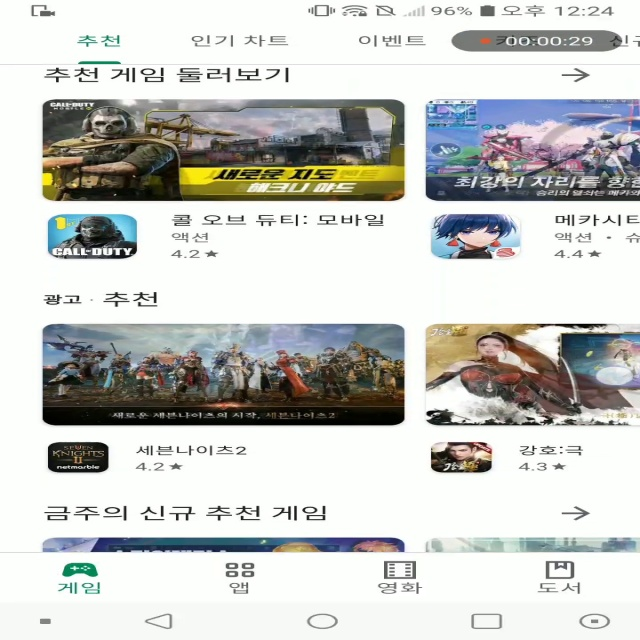Cursor: (592, 365, 637, 388)
